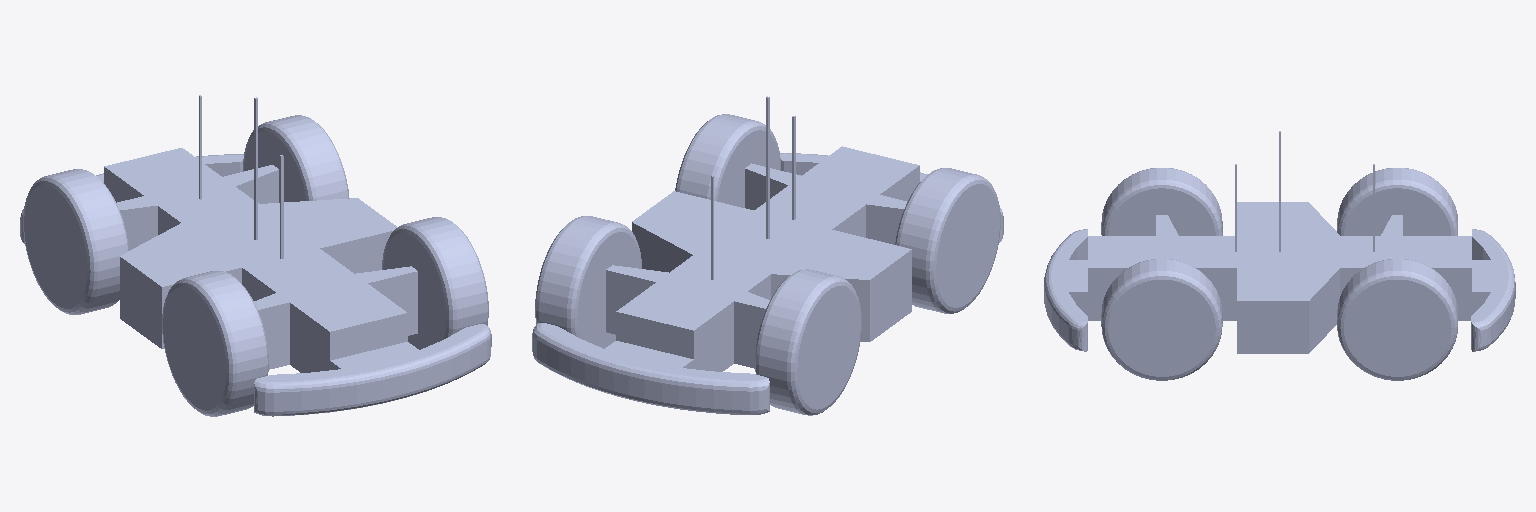
URDF robot description (platform_base_allink):
<robot
  name="platform_base_allink">
  <link
    name="base_link">
    <inertial>
      <origin
        xyz="-1.9248E-17 -0.017346 0.0011737"
        rpy="0 0 0" />
      <mass
        value="437.24" />
      <inertia
        ixx="0"
        ixy="0"
        ixz="0"
        iyy="0"
        iyz="0"
        izz="0" />
    </inertial>
    <visual>
      <origin
        xyz="0 0 0"
        rpy="0 0 3.1415" />
      <geometry>
        <mesh
          filename="package://robot_description/meshes/base_link.STL" />
      </geometry>
      <material
        name="">
        <color
          rgba="0.79216 0.81961 0.93333 1" />
      </material>
    </visual>
    <collision>
      <origin
        xyz="0 0 0"
        rpy="0 0 0" />
      <geometry>
        <mesh
          filename="package://robot_description/meshes/base_link.STL" />
      </geometry>
    </collision>
  </link>


  <link
    name="base_footprint">
    <inertial>
      <origin
        xyz="5.4448E-18 0 -1.721E-14"
        rpy="0 0 0" />
      <mass
        value="0.001" />
      <inertia
        ixx="0"
        ixy="0"
        ixz="0"
        iyy="0"
        iyz="0"
        izz="0" />
    </inertial>
    <visual>
      <origin
        xyz="0 0 0"
        rpy="0 0 3.1415" />
      <geometry>
        <mesh
          filename="package://robot_description/meshes/base_footprint.STL" />
      </geometry>
      <material
        name="">
        <color
          rgba="0.79216 0.81961 0.93333 1" />
      </material>
    </visual>
    <collision>
      <origin
        xyz="0 0 0"
        rpy="0 0 0" />
      <geometry>
        <mesh
          filename="package://robot_description/meshes/base_footprint.STL" />
      </geometry>
    </collision>
  </link>


  <joint
    name="base_foot_joint"
    type="fixed">
    <origin
      xyz="0 0 -0.274"
      rpy="0 0 1.5708" />
    <parent
      link="base_link" />
    <child
      link="base_footprint" />
    <axis
      xyz="0 0 0" />
  </joint>
  <link
    name="GPS_link">
    <inertial>
      <origin
        xyz="4.1359E-19 -1.1102E-16 2.7756E-17"
        rpy="0 0 0" />
      <mass
        value="0.001" />
      <inertia
        ixx="0"
        ixy="0"
        ixz="0"
        iyy="0"
        iyz="0"
        izz="0" />
    </inertial>
    <visual>
      <origin
        xyz="0 0 0"
        rpy="0 0 3.1415" />
      <geometry>
        <mesh
          filename="package://robot_description/meshes/GPS_link.STL" />
      </geometry>
      <material
        name="">
        <color
          rgba="0.79216 0.81961 0.93333 1" />
      </material>
    </visual>
    <collision>
      <origin
        xyz="0 0 0"
        rpy="0 0 0" />
      <geometry>
        <mesh
          filename="package://robot_description/meshes/GPS_link.STL" />
      </geometry>
    </collision>
  </link>


  <joint
    name="GPS_joint"
    type="fixed">
    <origin
      xyz="0 -0.195 0.835"
      rpy="0 0 1.5708" />
    <parent
      link="base_link" />
    <child
      link="GPS_link" />
    <axis
      xyz="0 0 0" />
  </joint>
  <link
    name="IMU_link">
    <inertial>
      <origin
        xyz="4.0691E-19 -1.1102E-16 2.7756E-17"
        rpy="0 0 0" />
      <mass
        value="0.001" />
      <inertia
        ixx="0"
        ixy="0"
        ixz="0"
        iyy="0"
        iyz="0"
        izz="0" />
    </inertial>
    <visual>
      <origin
        xyz="0 0 0"
        rpy="0 0 3.1415" />
      <geometry>
        <mesh
          filename="package://robot_description/meshes/IMU_link.STL" />
      </geometry>
      <material
        name="">
        <color
          rgba="0.79216 0.81961 0.93333 1" />
      </material>
    </visual>
    <collision>
      <origin
        xyz="0 0 0"
        rpy="0 0 0" />
      <geometry>
        <mesh
          filename="package://robot_description/meshes/IMU_link.STL" />
      </geometry>
    </collision>
  </link>


  <joint
    name="IMU_joint"
    type="fixed">
    <origin
      xyz="0 -0.195 0.695"
      rpy="0 0 1.5708" />
    <parent
      link="base_link" />
    <child
      link="IMU_link" />
    <axis
      xyz="0 0 0" />
  </joint>
  <link
    name="laser_link">
    <inertial>
      <origin
        xyz="1.1419E-18 0 4.3368E-18"
        rpy="0 0 0" />
      <mass
        value="0.001" />
      <inertia
        ixx="0"
        ixy="0"
        ixz="0"
        iyy="0"
        iyz="0"
        izz="0" />
    </inertial>
    <visual>
      <origin
        xyz="0 0 0"
        rpy="0 0 3.1415" />
      <geometry>
        <mesh
          filename="package://robot_description/meshes/laser_link.STL" />
      </geometry>
      <material
        name="">
        <color
          rgba="0.79216 0.81961 0.93333 1" />
      </material>
    </visual>
    <collision>
      <origin
        xyz="0 0 0"
        rpy="0 0 0" />
      <geometry>
        <mesh
          filename="package://robot_description/meshes/laser_link.STL" />
      </geometry>
    </collision>
  </link>


  <joint
    name="laser_joint"
    type="fixed">
    <origin
      xyz="0 0 0.695"
      rpy="0 0 1.5708" />
    <parent
      link="base_link" />
    <child
      link="laser_link" />
    <axis
      xyz="0 0 0" />
  </joint>
  <link
    name="camera_link">
    <inertial>
      <origin
        xyz="3.7796E-19 -1.1102E-16 -5.5511E-17"
        rpy="0 0 0" />
      <mass
        value="0.001" />
      <inertia
        ixx="0"
        ixy="0"
        ixz="0"
        iyy="0"
        iyz="0"
        izz="0" />
    </inertial>
    <visual>
      <origin
        xyz="0 0 0"
        rpy="0 0 3.1415" />
      <geometry>
        <mesh
          filename="package://robot_description/meshes/camera_link.STL" />
      </geometry>
      <material
        name="">
        <color
          rgba="0.79216 0.81961 0.93333 1" />
      </material>
    </visual>
    <collision>
      <origin
        xyz="0 0 0"
        rpy="0 0 0" />
      <geometry>
        <mesh
          filename="package://robot_description/meshes/camera_link.STL" />
      </geometry>
    </collision>
  </link>


  <joint
    name="camera_joint"
    type="fixed">
    <origin
      xyz="0 0.42 0.545"
      rpy="0 0 1.5708" />
    <parent
      link="base_link" />
    <child
      link="camera_link" />
    <axis
      xyz="0 0 0" />
  </joint>
</robot>

--- Render facts (derived) ---
Views: 3 orthographic renders of the robot side by side, from view 1: azimuth 30°, elevation 25°; view 2: azimuth 150°, elevation 25°; view 3: azimuth 270°, elevation 25°.
Model platform_base_allink with 6 links and 5 joints (5 fixed), rooted at base_link, posed every joint at zero.
Visible links, largest first — view 1: base_link; view 2: base_link; view 3: base_link.
Link boxes in pixels (x1=…): base_link: x1=20, y1=95, x2=491, y2=416; base_link: x1=532, y1=99, x2=1003, y2=415; base_link: x1=1044, y1=134, x2=1515, y2=380.
Size in the robot's own frame: 1.14 by 2.1 by 0.9692 metres.
Meshes: 6 distinct files referenced, 2 mesh visuals loaded (2 binary STL); not drawn: 4 (reference not matched to a file when rendering).